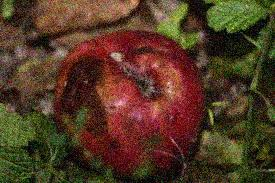rotten apple: (55, 24, 212, 177)
